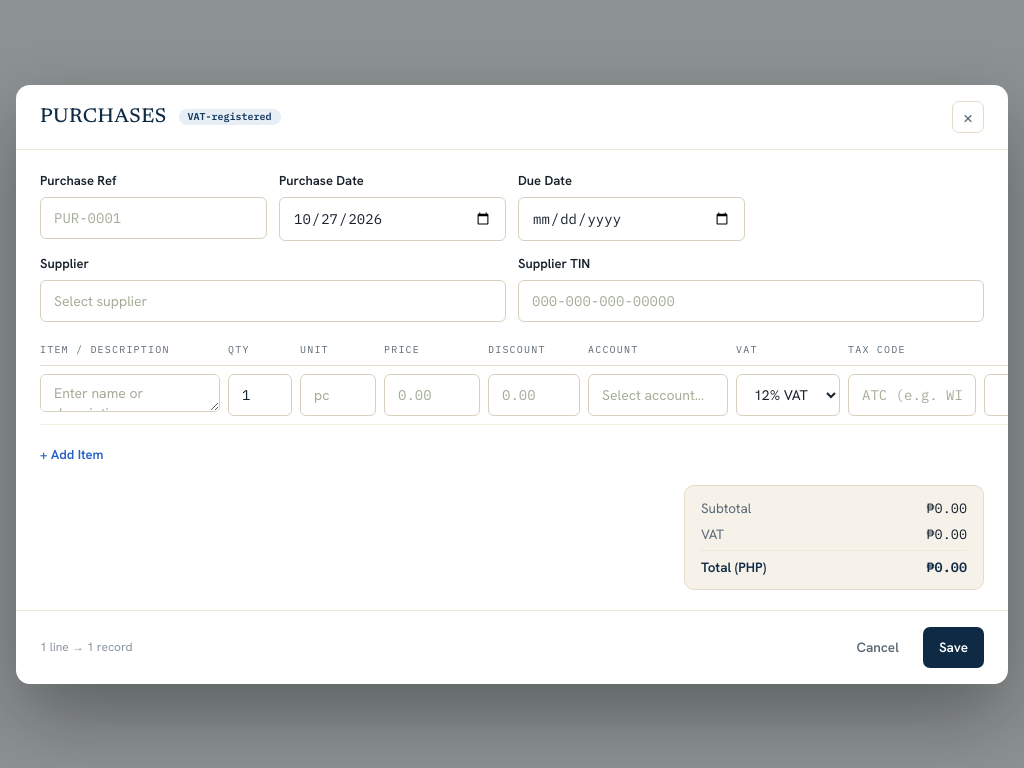
Test case: TransactionEntryModal — invoice/bill line-item entry › auto-computes the withholding amount from the ATC rate (still editable)
Check: the heading "Purchases" is shown, box 40,102 -> 167,132
Step 1. Type "1000" into the 1st field with placeholder "0.00" → (432, 394), box 384,374 -> 480,416
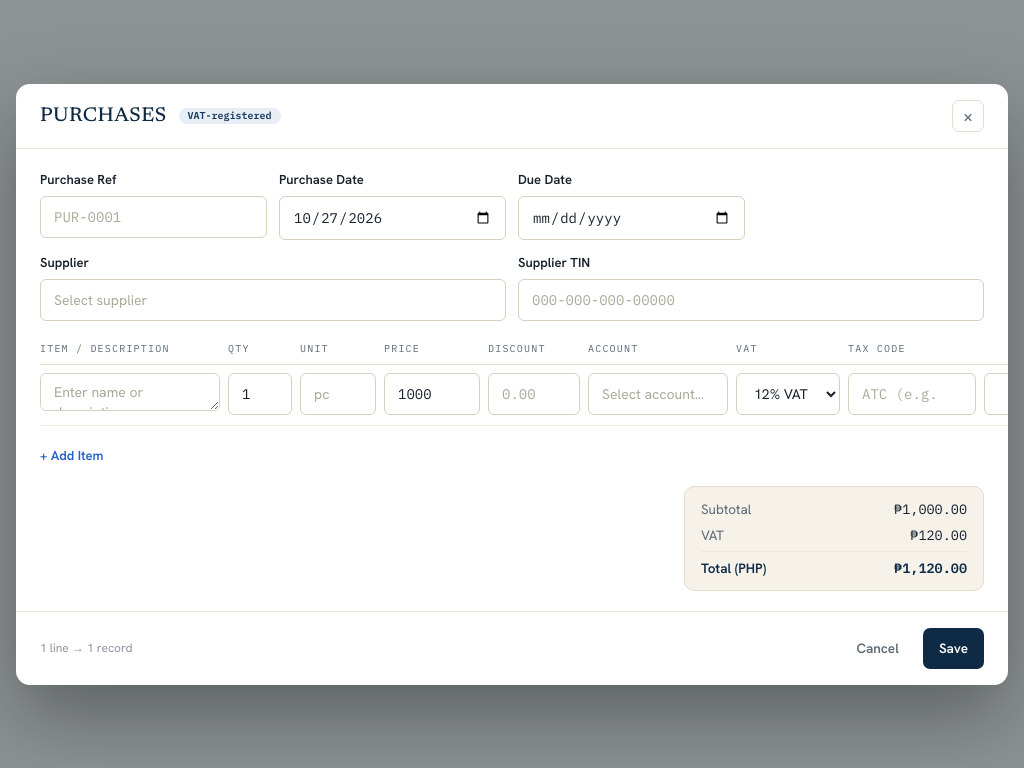
Step 2. Type "WI010" into the field with placeholder "ATC (e.g. WI010)" → (912, 394), box 848,372 -> 976,414
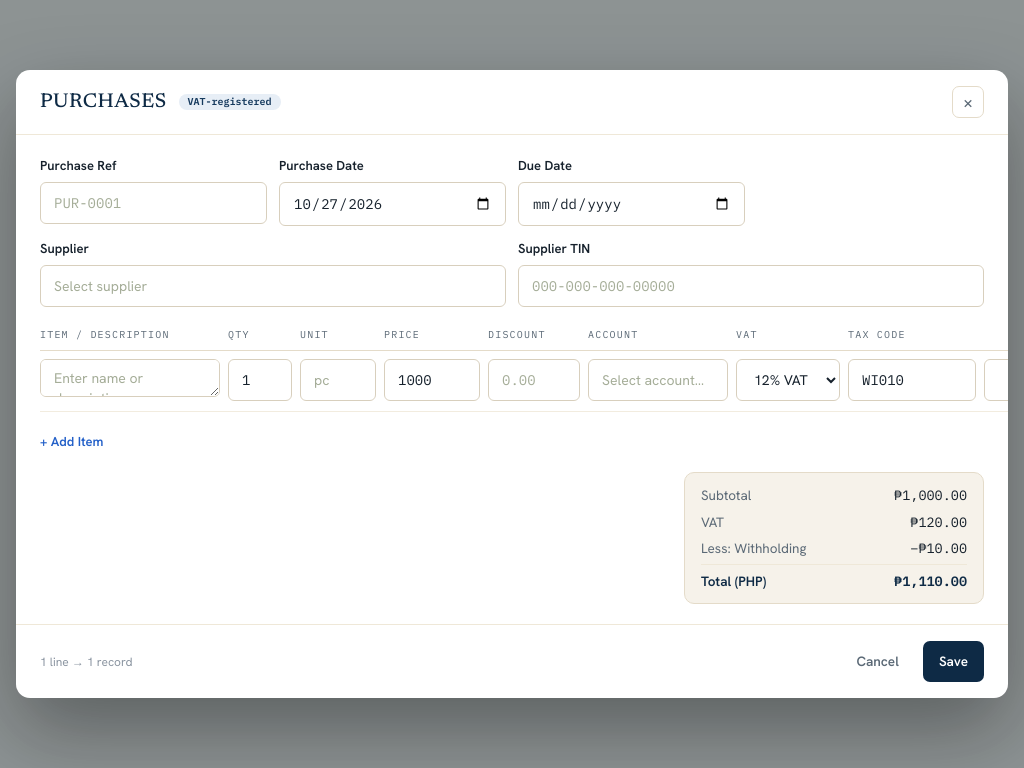
Check: the text "Less: Withholding" is shown, box 701,538 -> 806,558
